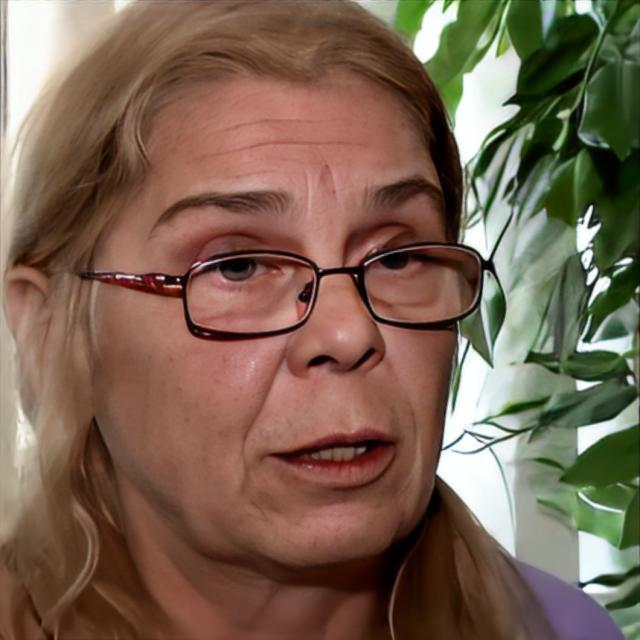surprise: (88, 62, 460, 566)
